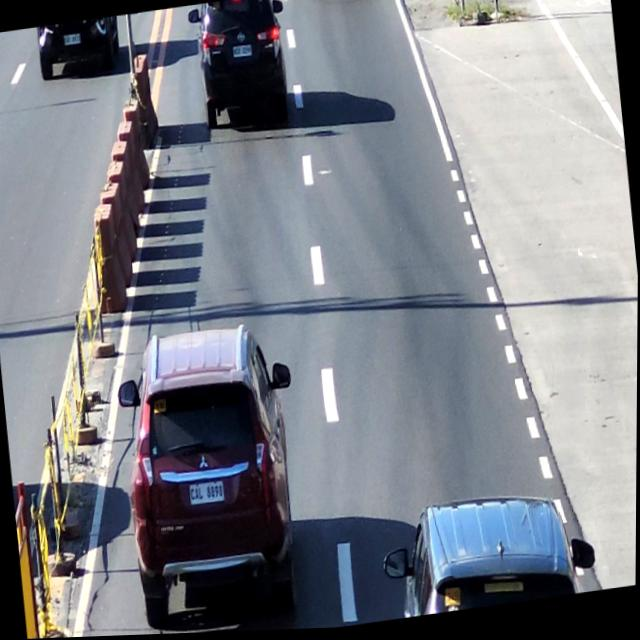Car: (116, 319, 310, 632), (380, 482, 600, 622), (188, 0, 299, 145), (35, 16, 126, 82)
License-Plate: (184, 469, 231, 517), (230, 42, 253, 63), (60, 31, 83, 49)
